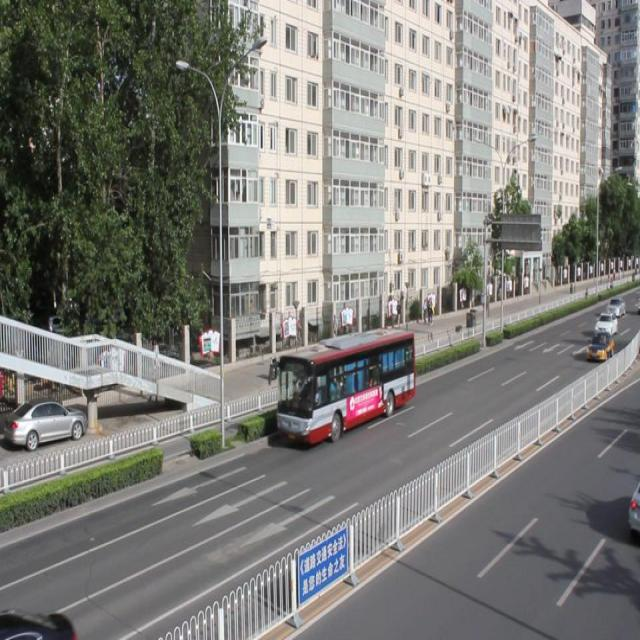van: (278, 330, 413, 442)
